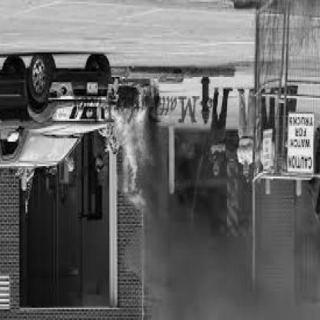Fire: (106, 76, 160, 222)
Smoke: (135, 191, 252, 317)
